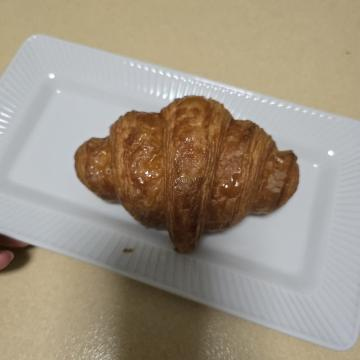croissant: (84, 51, 266, 304)
